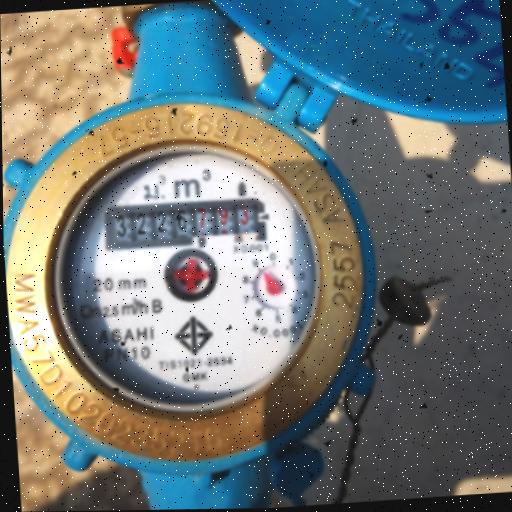2: (134, 211, 150, 241), (155, 210, 171, 239)
3: (113, 213, 131, 242), (236, 203, 252, 233)
6: (175, 208, 191, 236)
7: (195, 207, 212, 235)
9: (215, 206, 232, 233)
border_water_meter_number: (102, 196, 266, 253)
